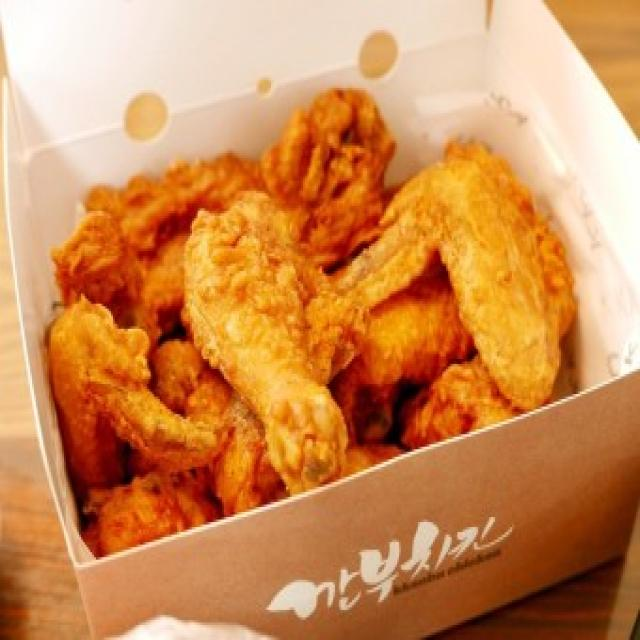Frango: (28, 91, 593, 536)
